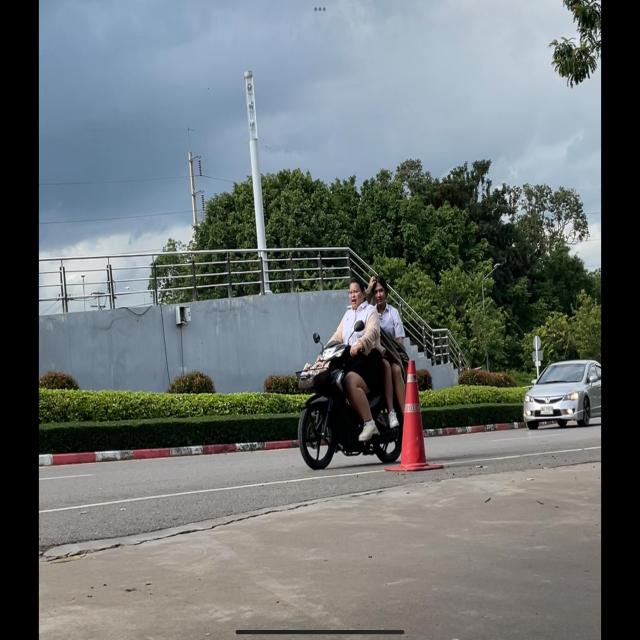seatbelt: (347, 276, 366, 310), (369, 274, 388, 306)
